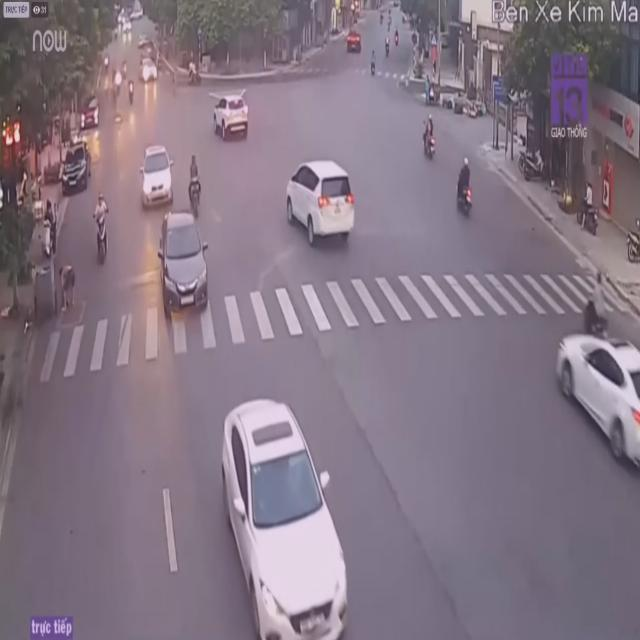car: (223, 397, 352, 640), (553, 329, 638, 479), (287, 160, 359, 252), (160, 206, 212, 314), (137, 144, 176, 215), (213, 87, 251, 144), (60, 139, 92, 197)
motorbike: (89, 189, 110, 266), (454, 156, 474, 218), (184, 157, 202, 212), (627, 208, 640, 277), (422, 115, 438, 163)
